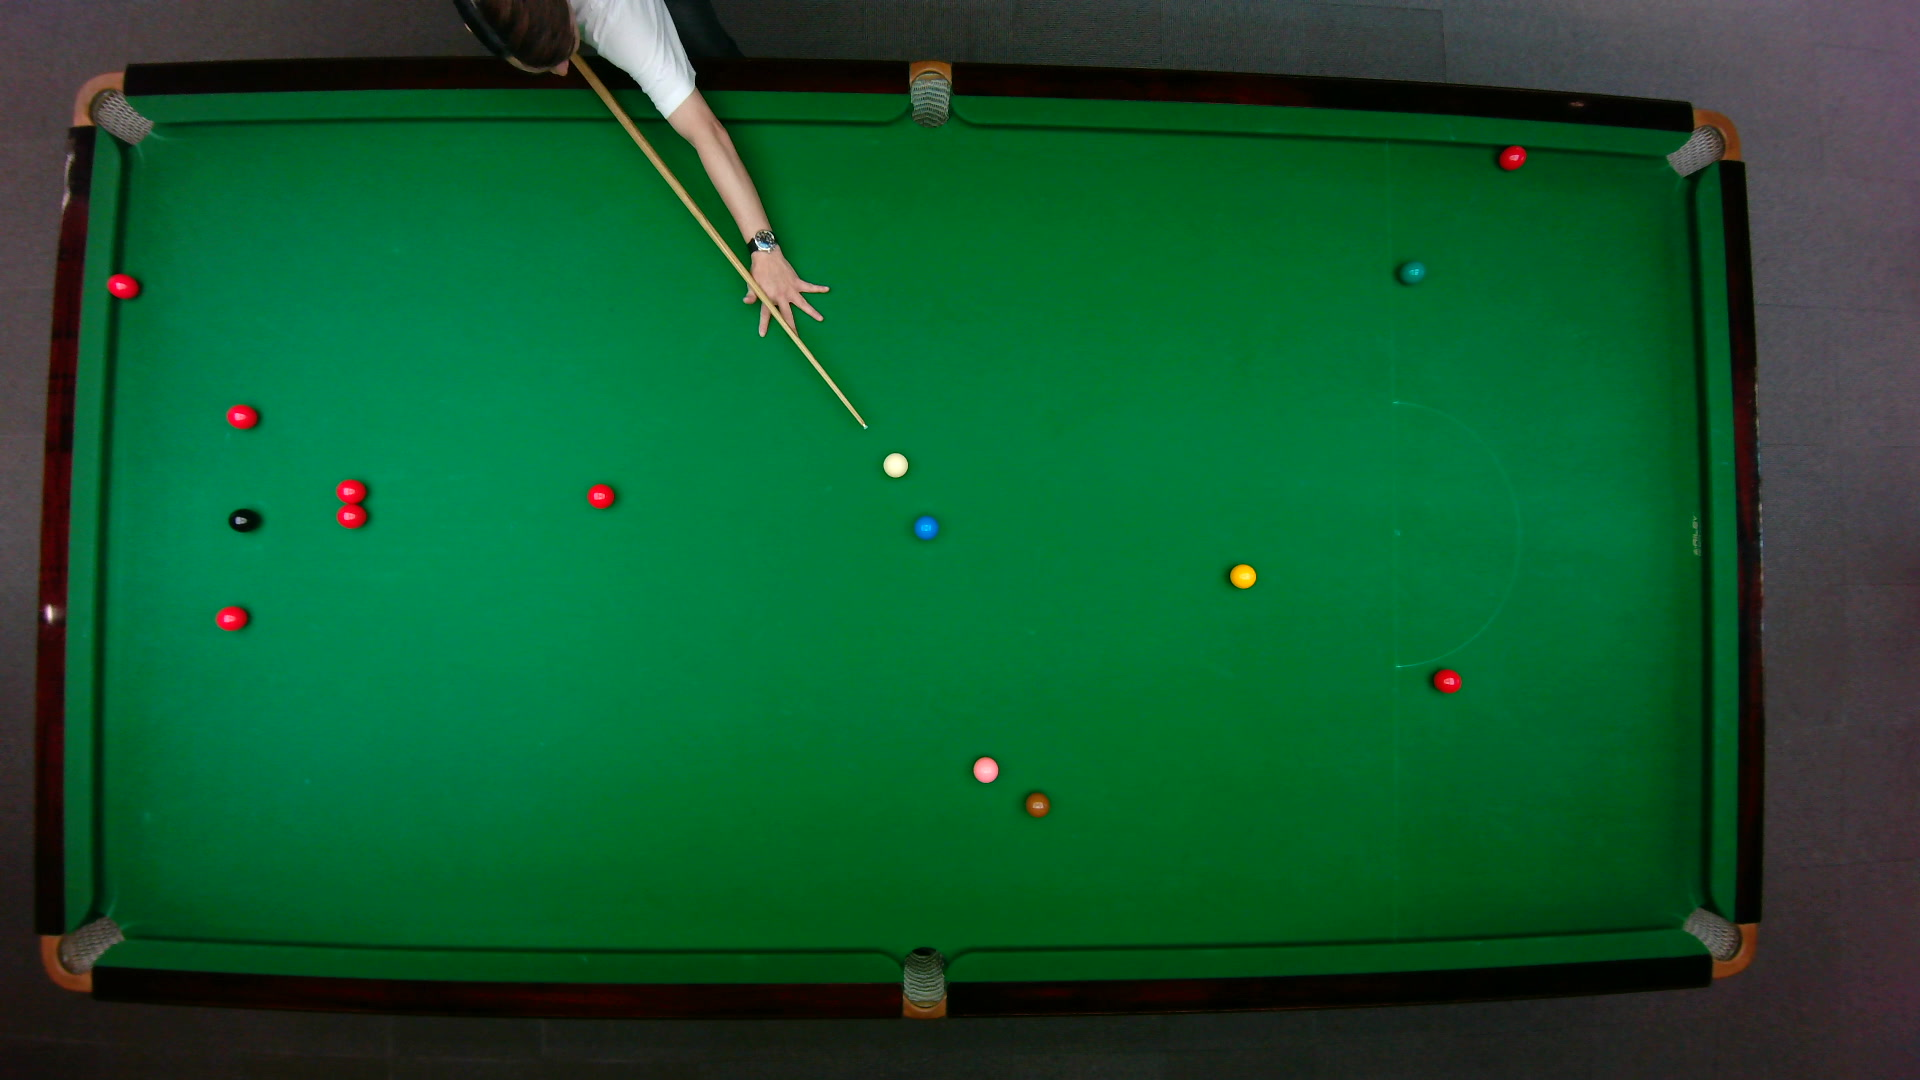bag: (38, 913, 127, 992), (70, 70, 156, 146), (1679, 905, 1756, 978), (1663, 108, 1741, 179), (902, 945, 945, 1021), (909, 58, 953, 131)
black: (225, 506, 258, 534)
blue: (911, 514, 942, 542)
brown: (1023, 791, 1052, 819)
cue: (568, 54, 869, 433)
green: (1396, 260, 1428, 287)
pink: (971, 754, 1001, 785)
red: (104, 272, 141, 301), (214, 604, 251, 633), (225, 402, 260, 431), (334, 504, 369, 531), (1431, 667, 1464, 696), (334, 477, 369, 504), (585, 483, 617, 512), (1497, 144, 1528, 171)
white: (881, 451, 910, 480)
yellow: (1228, 562, 1258, 589)
zone: (1391, 400, 1520, 669)
